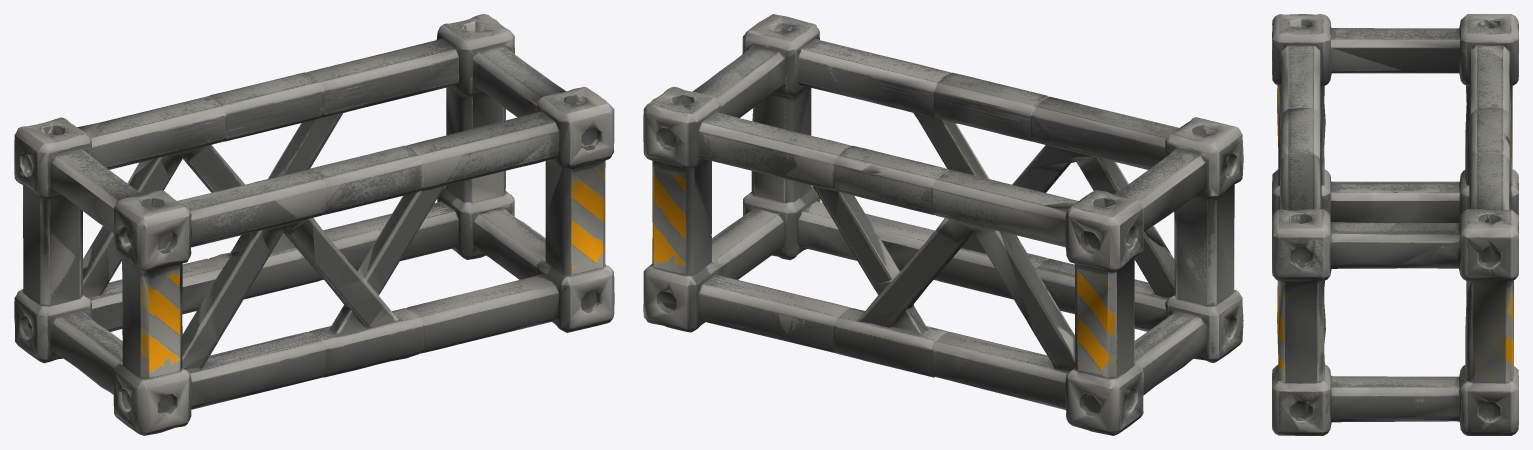
The model's file is 03_truss_short_box.fbx.
The picture shows the model from 3 angles, left to right: view 1: azimuth 30°, elevation 25°; view 2: azimuth 150°, elevation 25°; view 3: azimuth 270°, elevation 25°; orthographic projection. The views are drawn at different scales.
Parts seen in each view (by area): view 1: 03_truss_short_box; view 2: 03_truss_short_box; view 3: 03_truss_short_box.
Boxes of the visible parts, box(x1,y1,x2,y2) form: 03_truss_short_box: box(14, 14, 614, 435); 03_truss_short_box: box(643, 14, 1243, 435); 03_truss_short_box: box(1272, 14, 1518, 435).
Size of the model in its own units: 4 by 1.76 by 1.89.
Materials: 1 (1 with a texture image).
